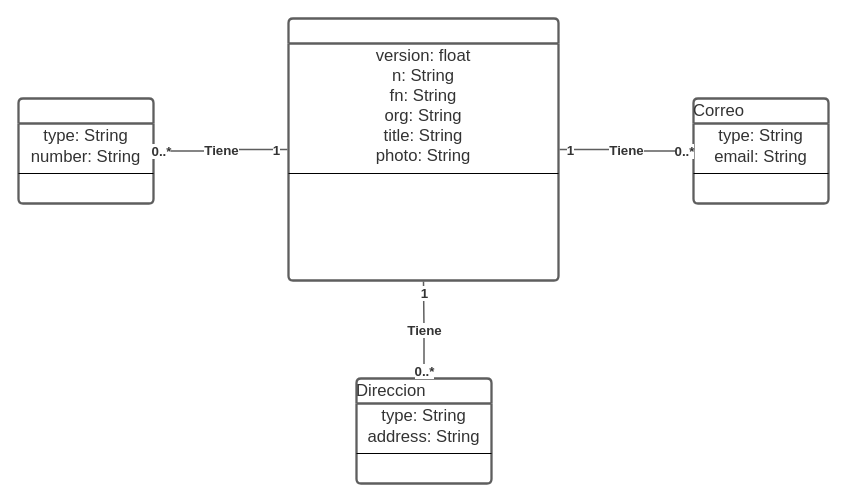
Image size: 847x502. Some labels were removed from this diagram. Each missing label, with the box of its shape:
Contacto: (287, 17, 559, 281)
Telefono: (17, 97, 154, 204)
